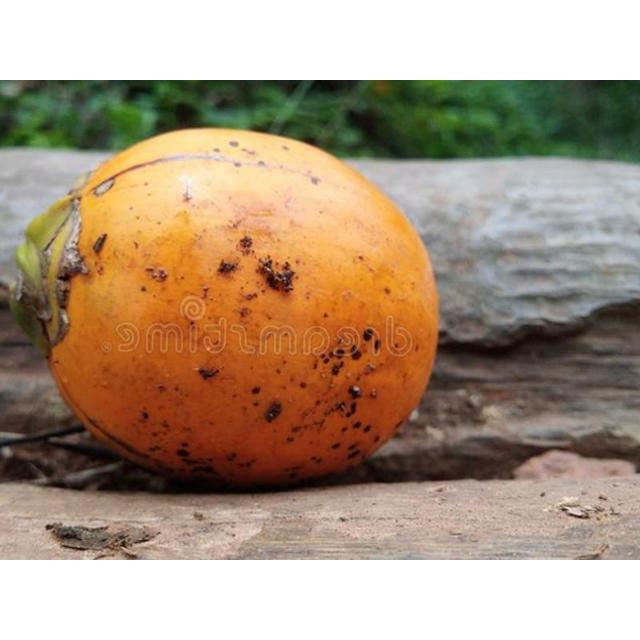good: (14, 129, 438, 483)
